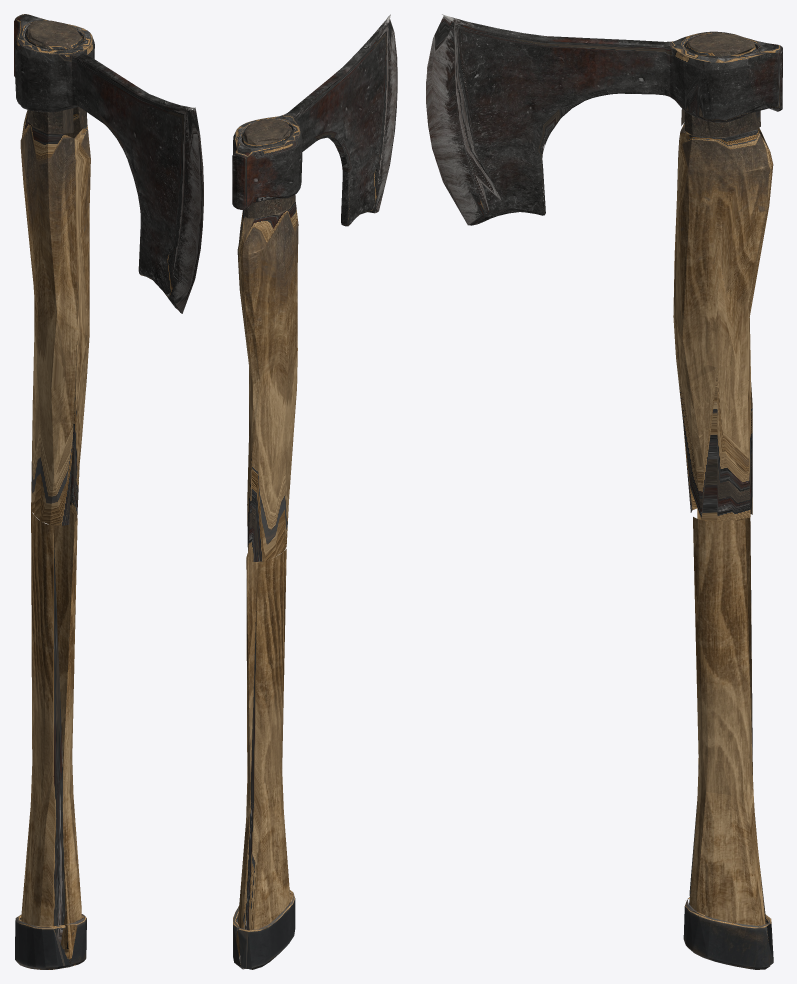
Rendered from alat_tani.glb.
3 renders of one model, left to right at view 1: azimuth 30°, elevation 25°; view 2: azimuth 150°, elevation 25°; view 3: azimuth 270°, elevation 25°, orthographic. The views are drawn at different scales.
Parts seen in each view (by area): view 1: alat_tani_0; view 2: alat_tani_0; view 3: alat_tani_0.
Part boxes in pixels (left/top/right/bottom): alat_tani_0: left=14, top=14, right=203, bottom=969; alat_tani_0: left=232, top=14, right=397, bottom=969; alat_tani_0: left=426, top=14, right=782, bottom=969.
Size of the model in its own units: 0.0472 by 0.6304 by 0.2143.
1 material, 1 textured.
